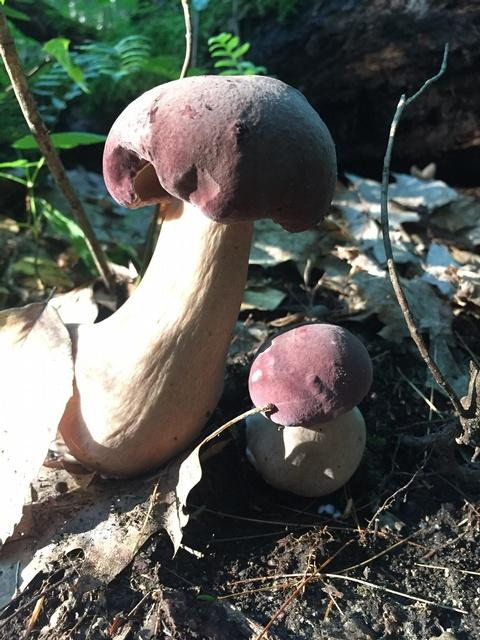poisonous_mushroom: (56, 72, 338, 480), (243, 321, 373, 497)
